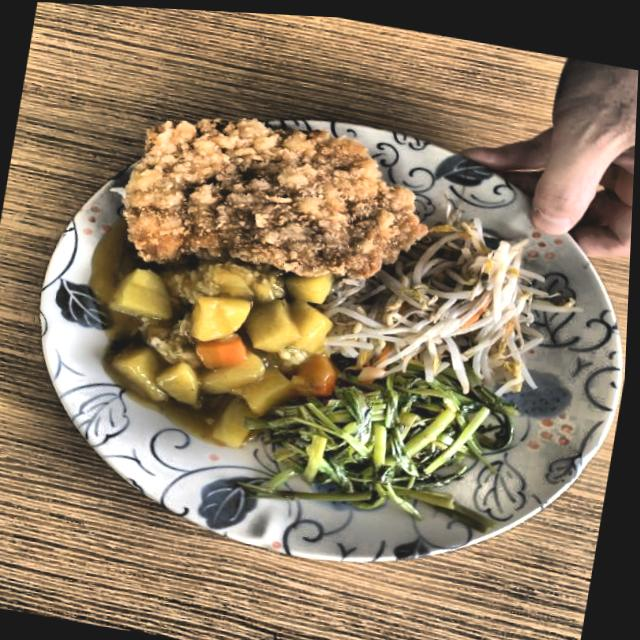Food: (120, 95, 430, 293), (279, 351, 516, 523), (96, 254, 343, 406), (364, 229, 539, 373)
